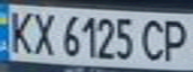1: (78, 12, 96, 59)
2: (93, 14, 118, 61)
5: (115, 15, 139, 61)
6: (57, 11, 81, 57)
C: (136, 16, 172, 63)
K: (3, 7, 36, 55)
P: (157, 16, 193, 63)
X: (27, 8, 57, 56)
